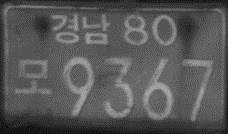0: (151, 13, 177, 46)
3: (101, 56, 135, 119)
6: (140, 56, 176, 120)
7: (180, 57, 215, 123)
8: (122, 11, 149, 47)
9: (61, 54, 95, 117)
경남_O: (49, 12, 111, 46)
모: (12, 55, 53, 97)
